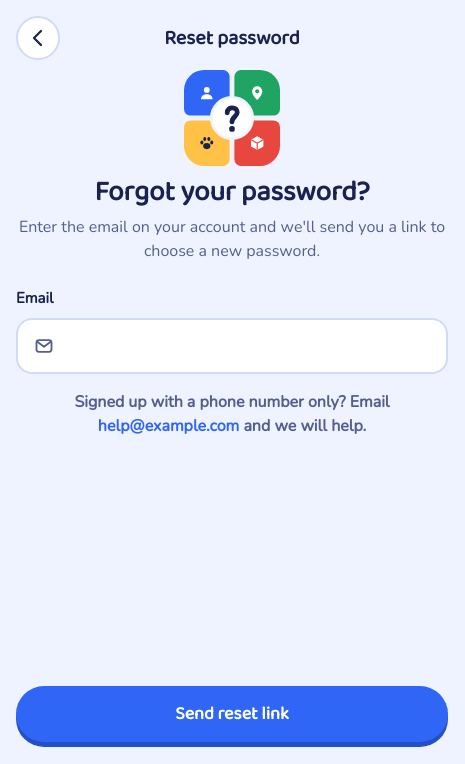
Scenario: forgot and reset password › shows a message when the request fails
Type "a@b.co" into the field labelled "Email" at (232, 346), box [16,318,448,374]
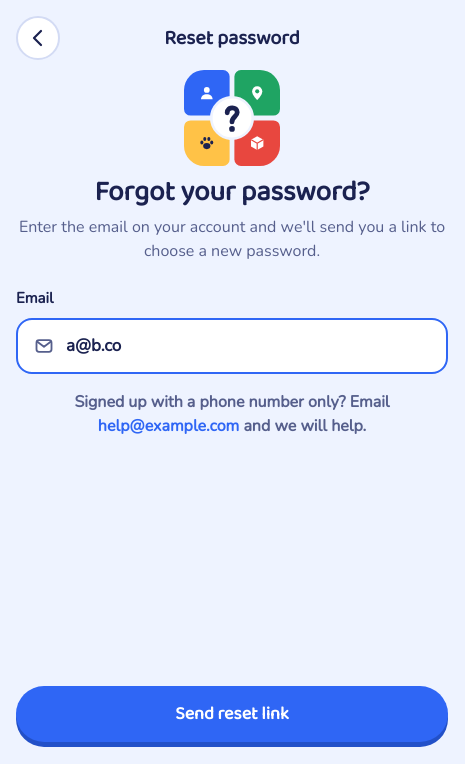
Click the button "Send reset link" at (232, 714), box [16,686,448,742]
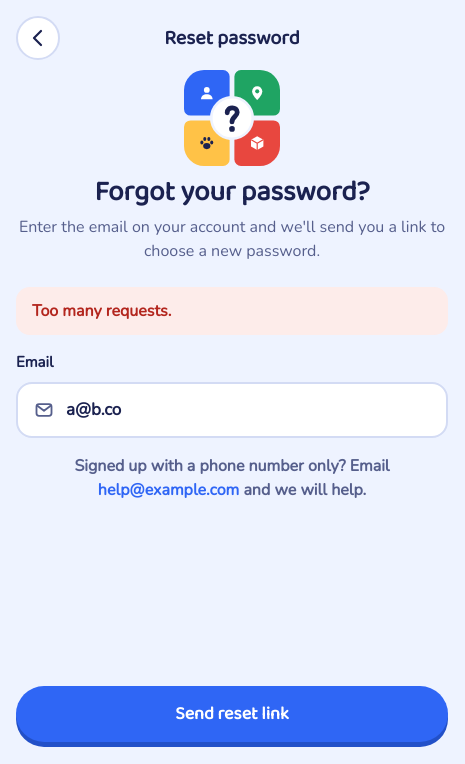
Check: the message reads "Too many requests.", box [32,300,171,322]
